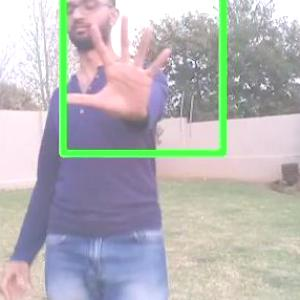follow_hand: (61, 7, 177, 124)
